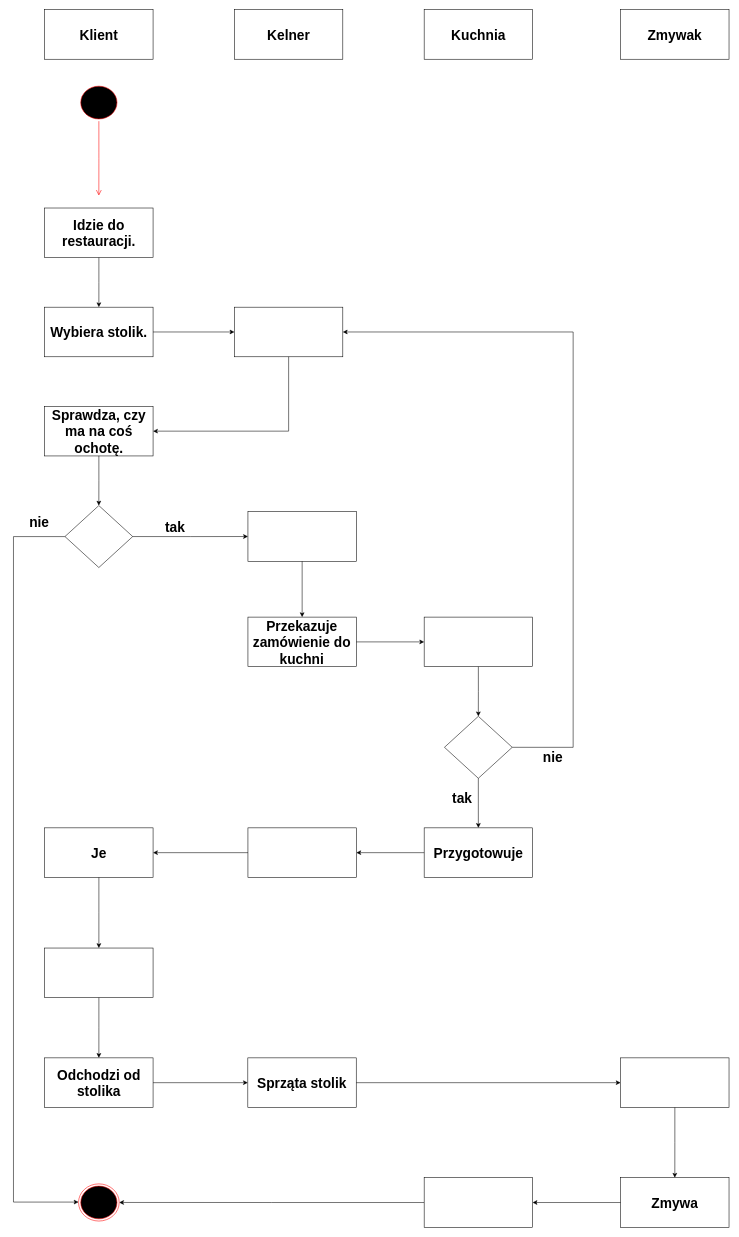
Some shapes in this 739 by 1237 pixel diagram are drawn without their labels. The shapes that lost their labels are listed below. From the top down, each one's centre as x and y in pixels, then its label:
the point at 288,332: Daje kartę.
the point at 301,536: Zbiera zamówienie.
the point at 478,642: Sprawdza, czy jest możliwość przygotowania
the point at 301,852: Podaje
the point at 98,972: Płaci
the point at 674,1082: Odbiera brudne naczynia
the point at 478,1202: Przyjmuje czyste naczynia
